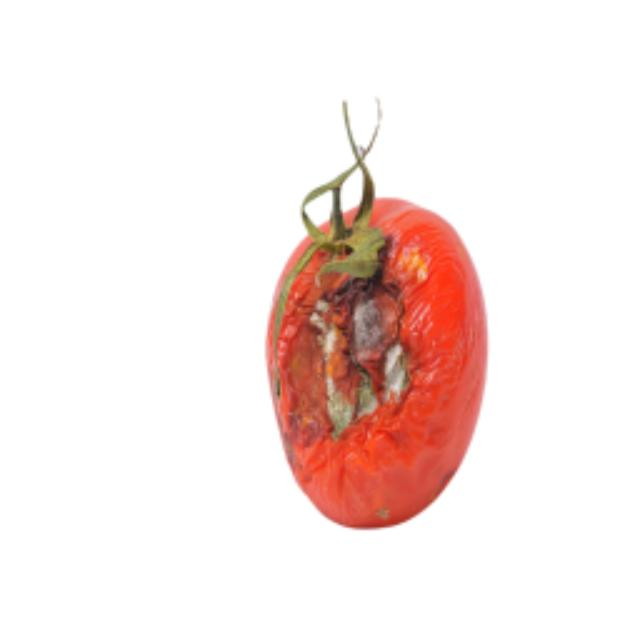defect: (266, 184, 494, 537)
